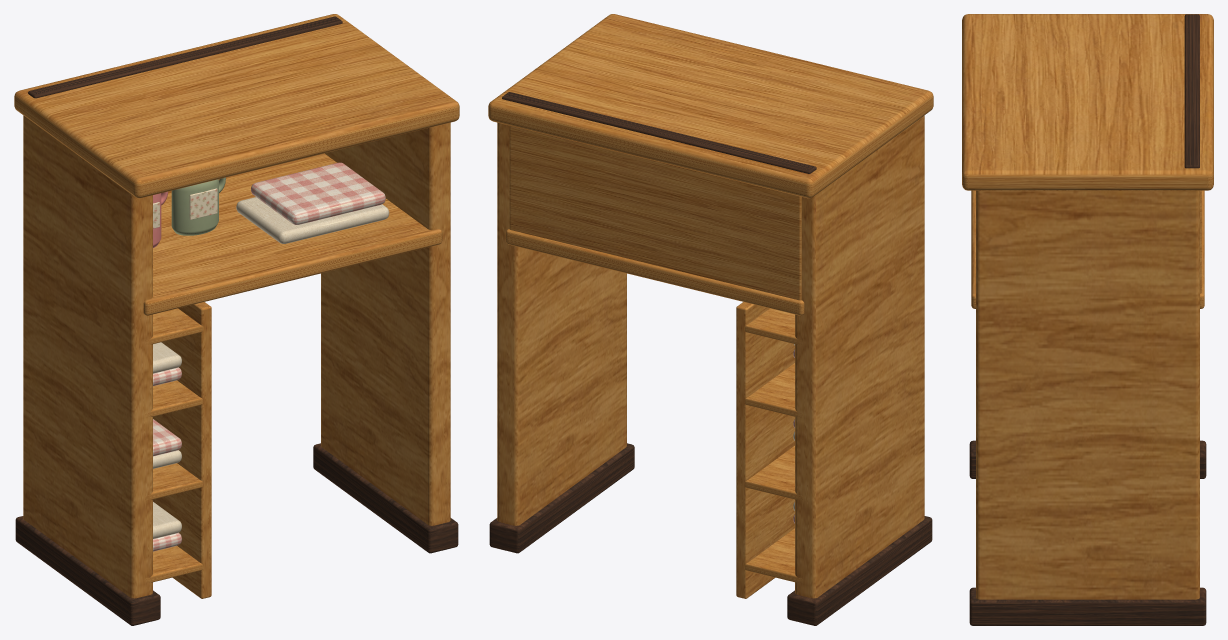
File: SM_InteriorAdditions_LaundryShelf.fbx
3 views of the same model, side by side, from view 1: azimuth 30°, elevation 25°; view 2: azimuth 150°, elevation 25°; view 3: azimuth 270°, elevation 25° (orthographic).
Parts seen in each view (by area): view 1: SM_InteriorAdditions_LaundryShelf; view 2: SM_InteriorAdditions_LaundryShelf; view 3: SM_InteriorAdditions_LaundryShelf.
Part boxes in pixels (box(x1,y1,x2,y2)): SM_InteriorAdditions_LaundryShelf: box(14, 14, 459, 625); SM_InteriorAdditions_LaundryShelf: box(488, 14, 933, 625); SM_InteriorAdditions_LaundryShelf: box(962, 14, 1213, 625).
Size of what is drawn, in the model's own units: 140 by 92 by 184.
